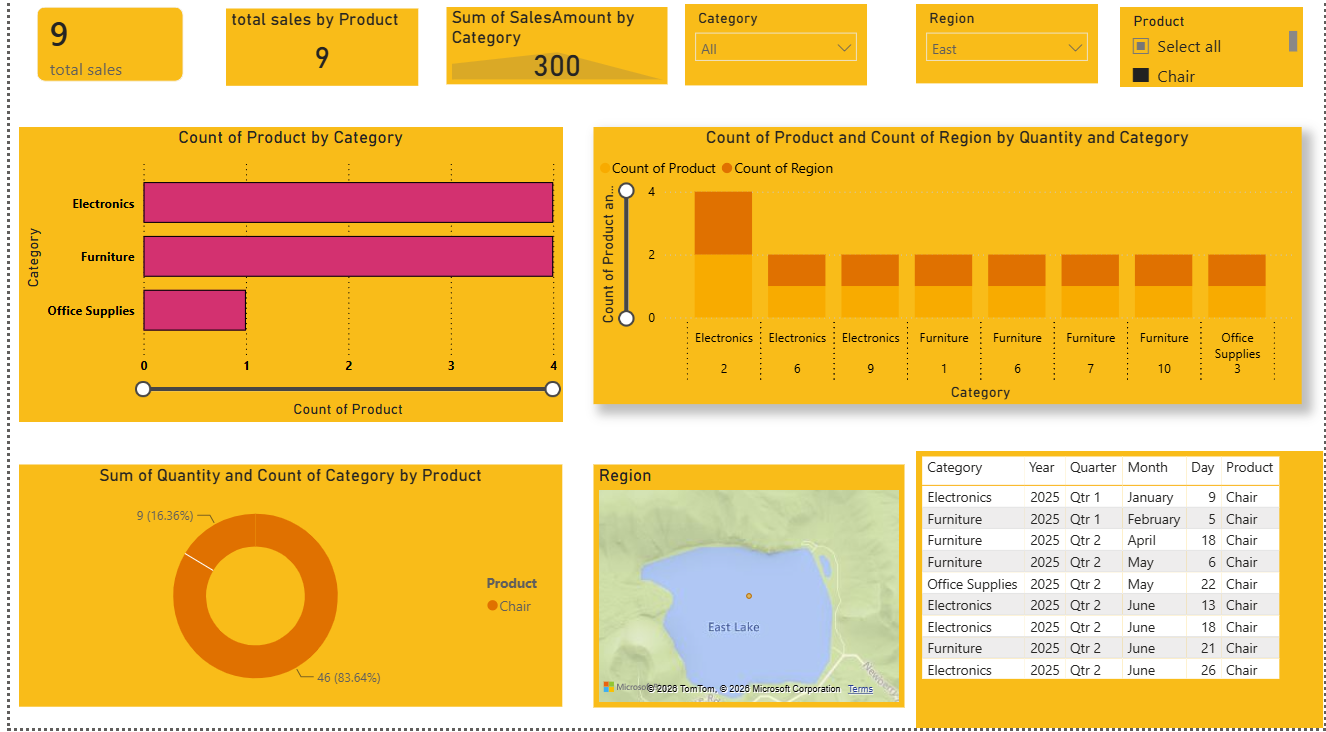

This screenshot's page, from the dashboard's own definition file:
{"tool":"powerbi","page":{"name":"Page 1","canvas":[1280,720],"ordinal":0},"visuals":[{"type":"cardVisual","fields":{"Data":["powerbi_practice_dataset2.total sales"]},"box":[9.4,0,177.6,107.7],"z":0},{"type":"slicer","fields":{"Values":["powerbi_practice_dataset2.Product"]},"box":[1081,17,177.6,77.5],"z":1000},{"type":"slicer","fields":{"Values":["powerbi_practice_dataset2.Category"]},"box":[657.6,15.1,177.6,79.4],"z":2000},{"type":"slicer","fields":{"Values":["powerbi_practice_dataset2.Region"]},"box":[882.5,15.1,177.6,77.5],"z":3000},{"type":"kpi","fields":{"Indicator":["powerbi_practice_dataset2.total sales"],"TrendLine":["powerbi_practice_dataset2.Product"]},"box":[209.8,18.9,187.1,75.6],"z":4000},{"type":"kpi","fields":{"Indicator":["Sum(powerbi_practice_dataset2.SalesAmount)"],"TrendLine":["powerbi_practice_dataset2.Category"]},"box":[425.2,17,215.4,75.6],"z":5000},{"type":"barChart","fields":{"Y":["CountNonNull(powerbi_practice_dataset2.Product)"],"Category":["powerbi_practice_dataset2.Category"]},"box":[9.4,134.2,529.1,287.2],"z":6000},{"type":"donutChart","fields":{"Category":["powerbi_practice_dataset2.Region","powerbi_practice_dataset2.Product"],"Y":["Sum(powerbi_practice_dataset2.Quantity)","CountNonNull(powerbi_practice_dataset2.Category)"]},"box":[9.4,463,529.1,236.2],"z":7000},{"type":"tableEx","fields":{"Values":["powerbi_practice_dataset2.Category","powerbi_practice_dataset2.OrderDate.Variation.Date Hierarchy.Year","powerbi_practice_dataset2.OrderDate.Variation.Date Hierarchy.Quarter","powerbi_practice_dataset2.OrderDate.Variation.Date Hierarchy.Month","powerbi_practice_dataset2.OrderDate.Variation.Date Hierarchy.Day","powerbi_practice_dataset2.Product"]},"box":[882.5,449.8,396.9,270.2],"z":9000},{"type":"lineStackedColumnComboChart","fields":{"Category":["powerbi_practice_dataset2.Quantity","powerbi_practice_dataset2.Category"],"Y":["CountNonNull(powerbi_practice_dataset2.Product)","CountNonNull(powerbi_practice_dataset2.Region)"]},"box":[568.8,134.2,689.8,270.2],"z":10000},{"type":"map","fields":{"Category":["powerbi_practice_dataset2.Region","powerbi_practice_dataset2.Product","powerbi_practice_dataset2.Category"]},"box":[568.8,463,302.4,236.2],"z":11000}]}

Visuals, with their boxes in screenshot pixels (x1, y1, x2, y2), scaled from the page's 1280x720 canvas onto the 1326x732 screenshot:
cardVisual - powerbi_practice_dataset2.total sales: l=10, t=0, r=194, b=109
slicer - powerbi_practice_dataset2.Product: l=1120, t=17, r=1304, b=96
slicer - powerbi_practice_dataset2.Category: l=681, t=15, r=865, b=96
slicer - powerbi_practice_dataset2.Region: l=914, t=15, r=1098, b=94
kpi - powerbi_practice_dataset2.total sales x powerbi_practice_dataset2.Product: l=217, t=19, r=411, b=96
kpi - Sum(powerbi_practice_dataset2.SalesAmount) x powerbi_practice_dataset2.Category: l=440, t=17, r=664, b=94
barChart - CountNonNull(powerbi_practice_dataset2.Product) x powerbi_practice_dataset2.Category: l=10, t=136, r=558, b=428
donutChart - powerbi_practice_dataset2.Region x powerbi_practice_dataset2.Product: l=10, t=471, r=558, b=711
tableEx - powerbi_practice_dataset2.Category x powerbi_practice_dataset2.OrderDate.Variation.Date Hierarchy.Year: l=914, t=457, r=1325, b=731
lineStackedColumnComboChart - powerbi_practice_dataset2.Quantity x powerbi_practice_dataset2.Category: l=589, t=136, r=1304, b=411
map - powerbi_practice_dataset2.Region x powerbi_practice_dataset2.Product: l=589, t=471, r=903, b=711
